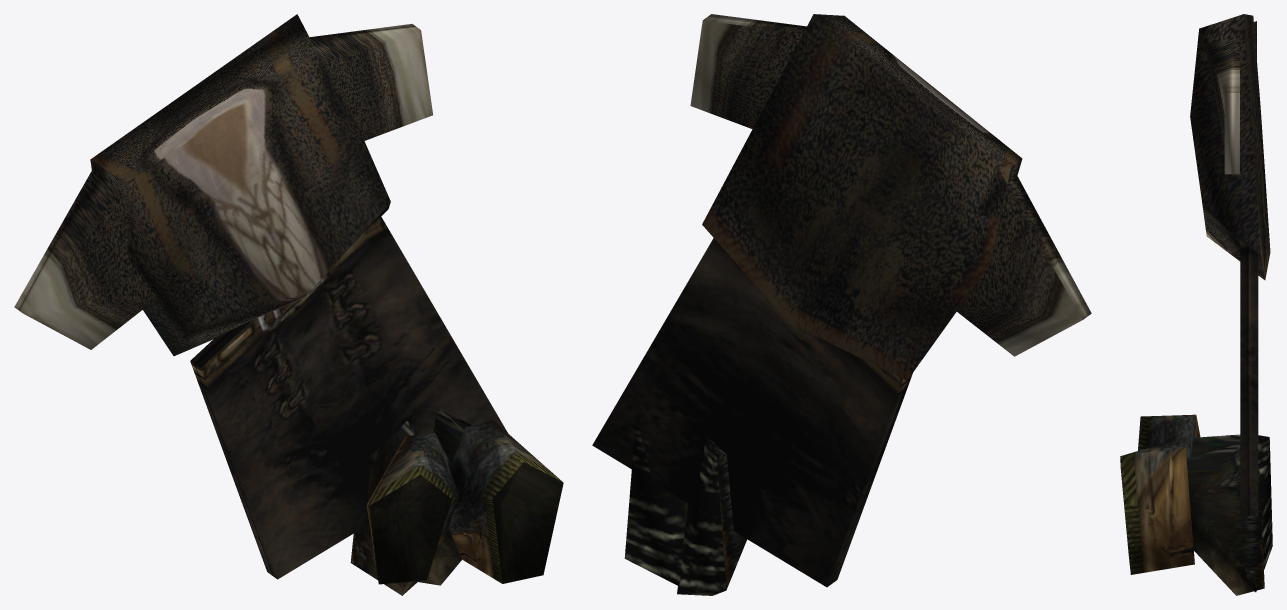
The picture shows the model from 3 angles, left to right: view 1: azimuth 30°, elevation 25°; view 2: azimuth 150°, elevation 25°; view 3: azimuth 270°, elevation 25°; orthographic projection. The views are drawn at different scales.
Visible parts, largest first — view 1: zm_Knecht; view 2: zm_Knecht; view 3: zm_Knecht.
Part boxes in pixels (bbox=[...]): zm_Knecht: bbox=[14, 14, 563, 595]; zm_Knecht: bbox=[592, 14, 1091, 595]; zm_Knecht: bbox=[1120, 14, 1272, 595].
Size of the model in its own units: 84.16 by 99.92 by 26.3.
